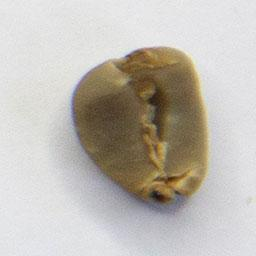defect: (68, 44, 213, 207)
